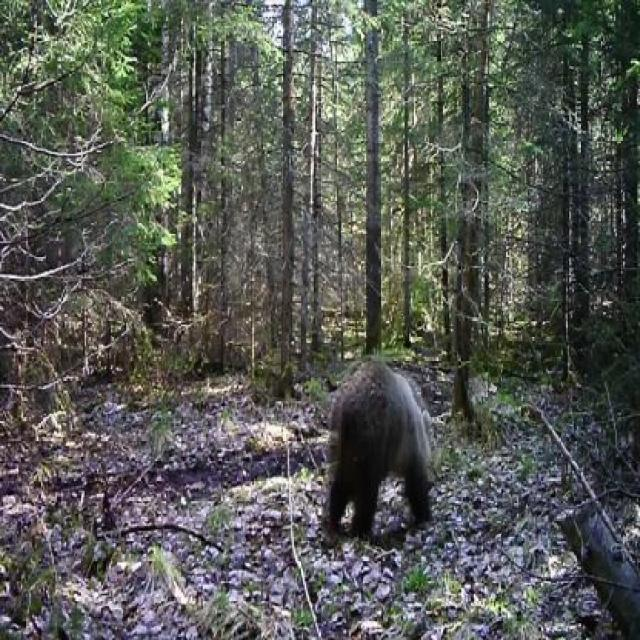Bear: (322, 347, 438, 548)
